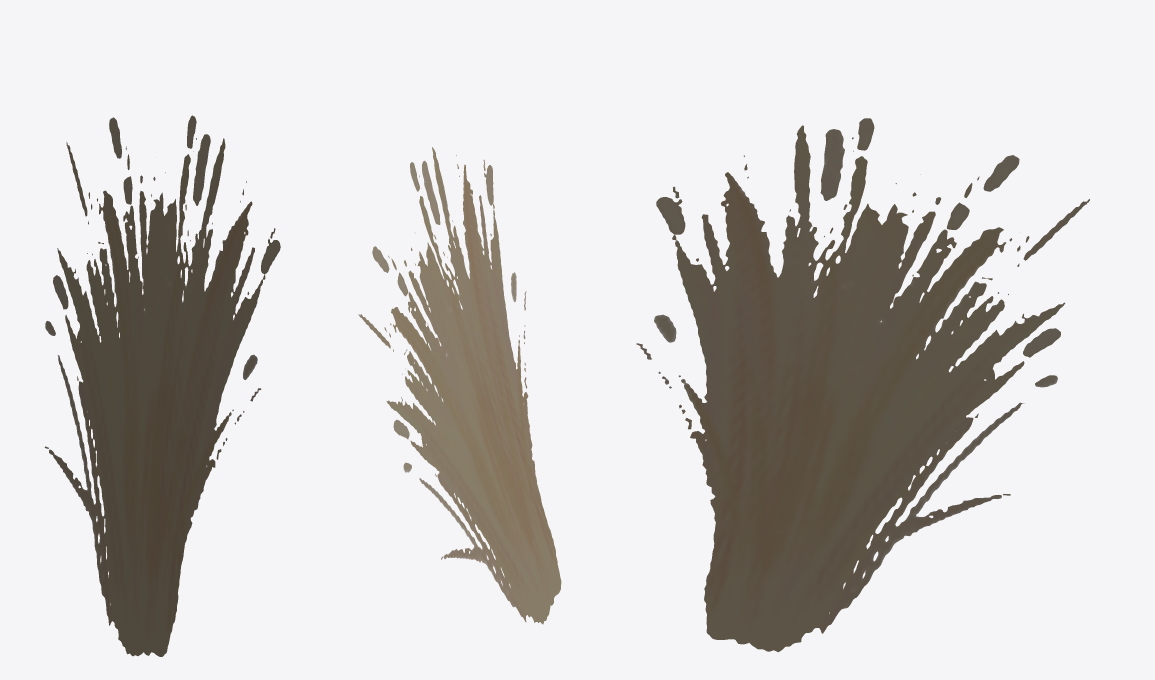
The model's file is grass1_002.fbx.
3 views of the same model, side by side, from view 1: azimuth 30°, elevation 25°; view 2: azimuth 150°, elevation 25°; view 3: azimuth 270°, elevation 25° (orthographic). The views are drawn at different scales.
Parts seen in each view (by area): view 1: grass1.002; view 2: grass1.002; view 3: grass1.002.
Boxes of the visible parts, x1=… form: grass1.002: x1=44, y1=115, x2=280, y2=656; grass1.002: x1=358, y1=147, x2=561, y2=624; grass1.002: x1=636, y1=118, x2=1089, y2=652.
Size of the model in its own units: 83.62 by 328 by 215.
